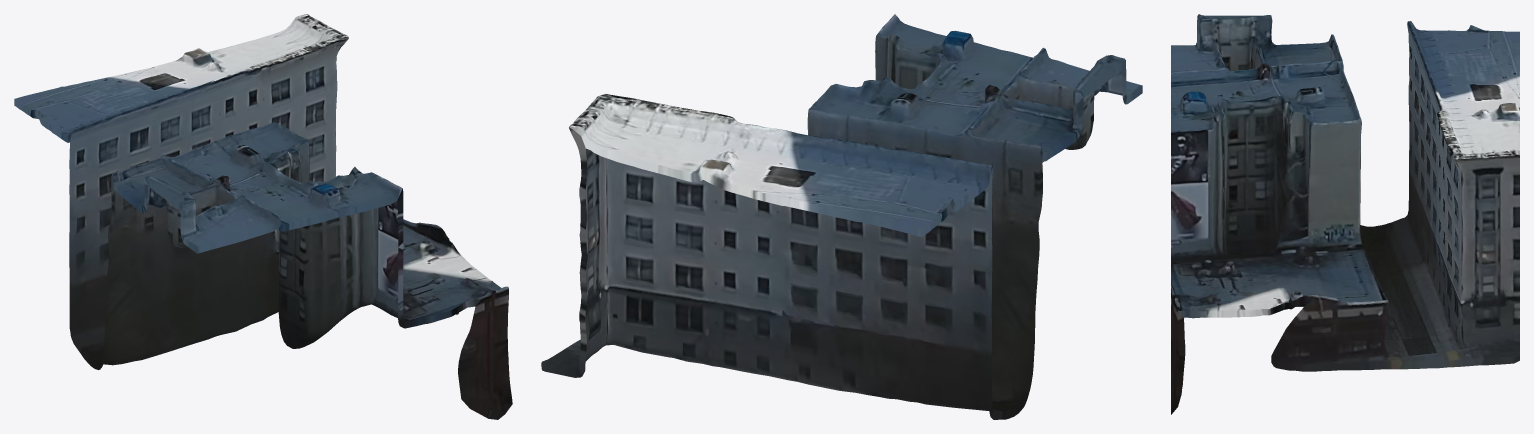
File: z20-167750-405240-h0-yup-uvflip-v3-world.glb
The picture shows the model from 3 angles, left to right: view 1: azimuth 30°, elevation 25°; view 2: azimuth 150°, elevation 25°; view 3: azimuth 270°, elevation 25°; orthographic projection. The views are drawn at different scales.
Bounding box in the file's own units: 30.2 × 25.64 × 30.32.
1 material, 1 textured.
